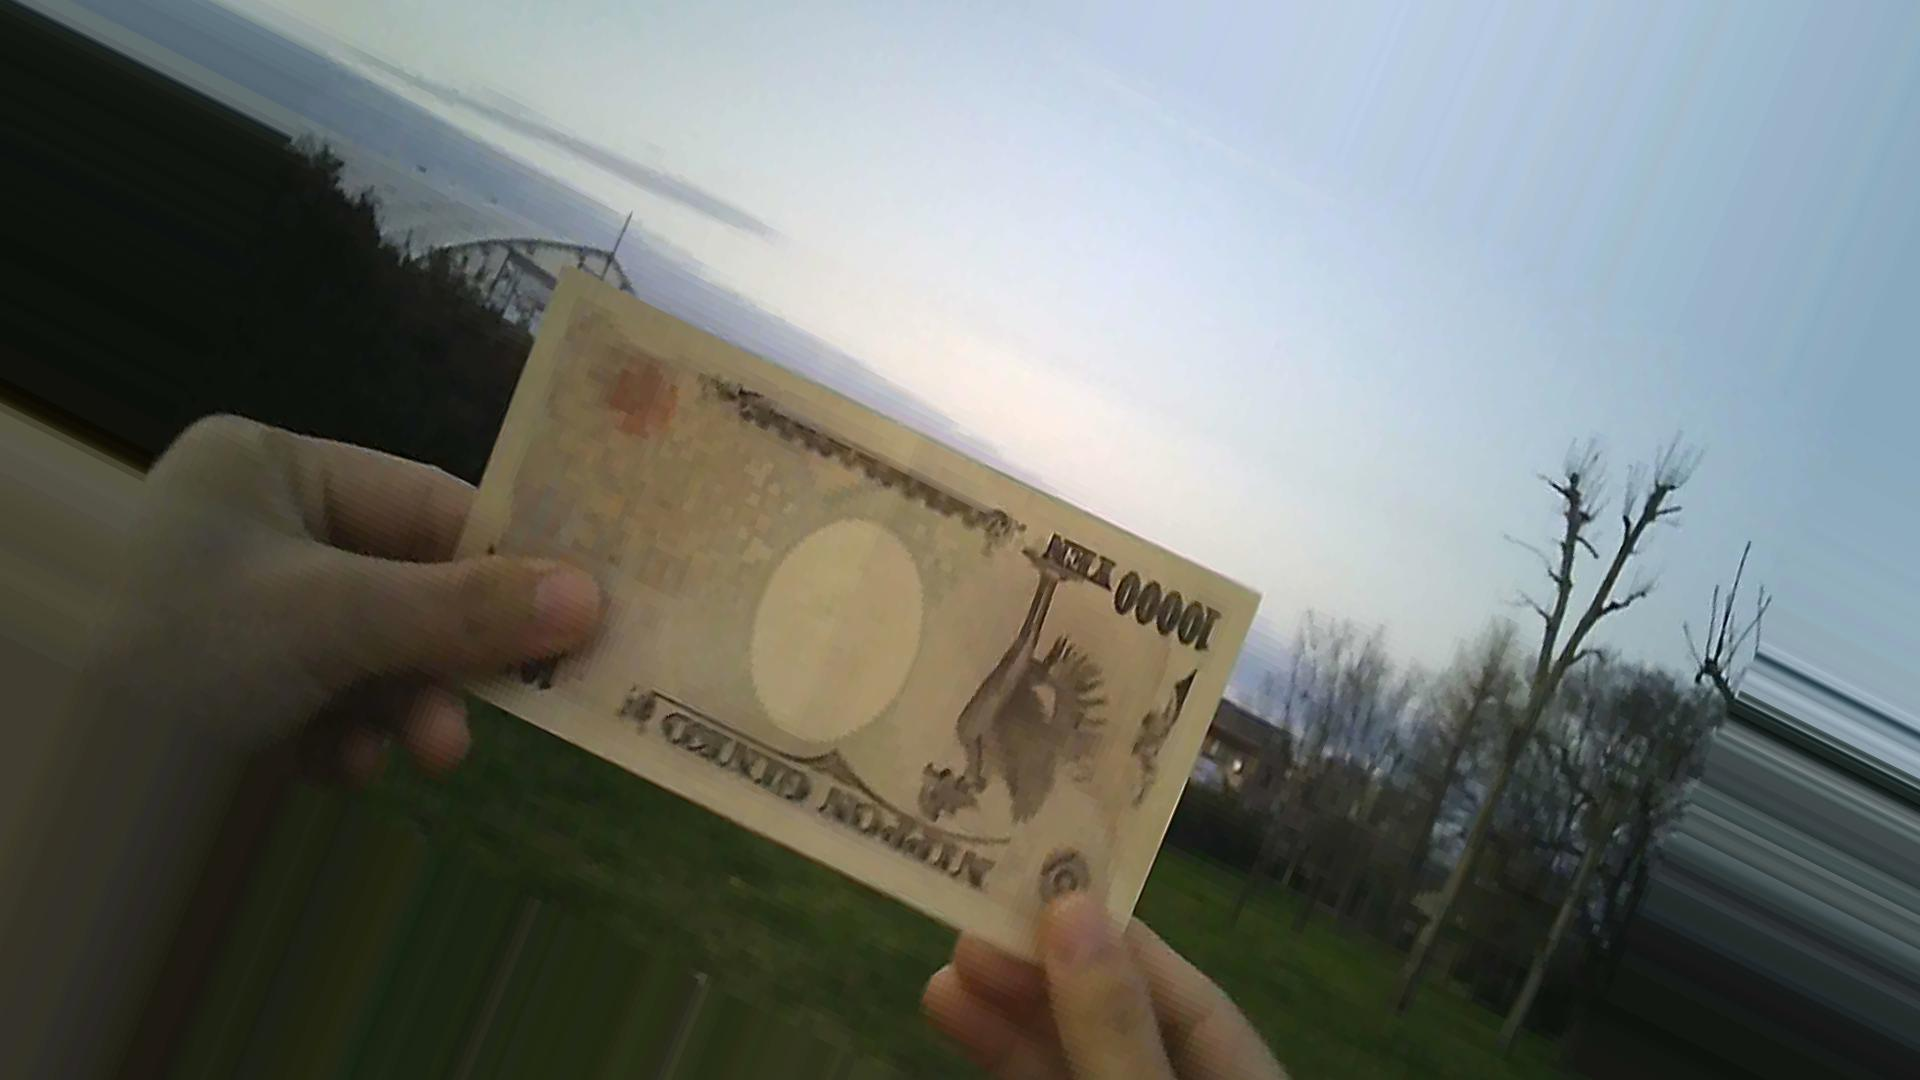10,000 Yen: (435, 255, 1273, 963)
